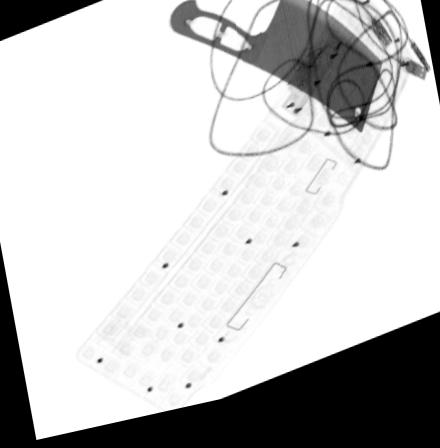Knife: (167, 0, 384, 150)
